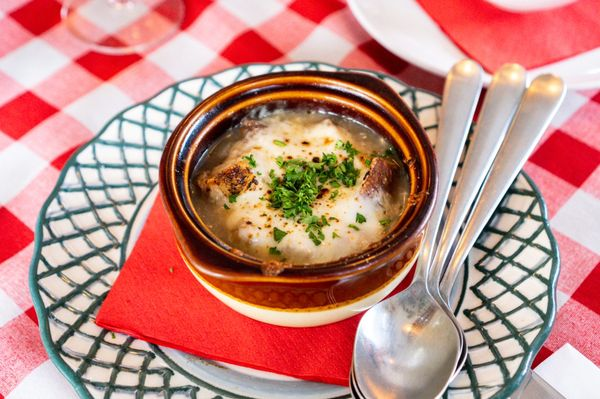sushi: (158, 76, 432, 328)
